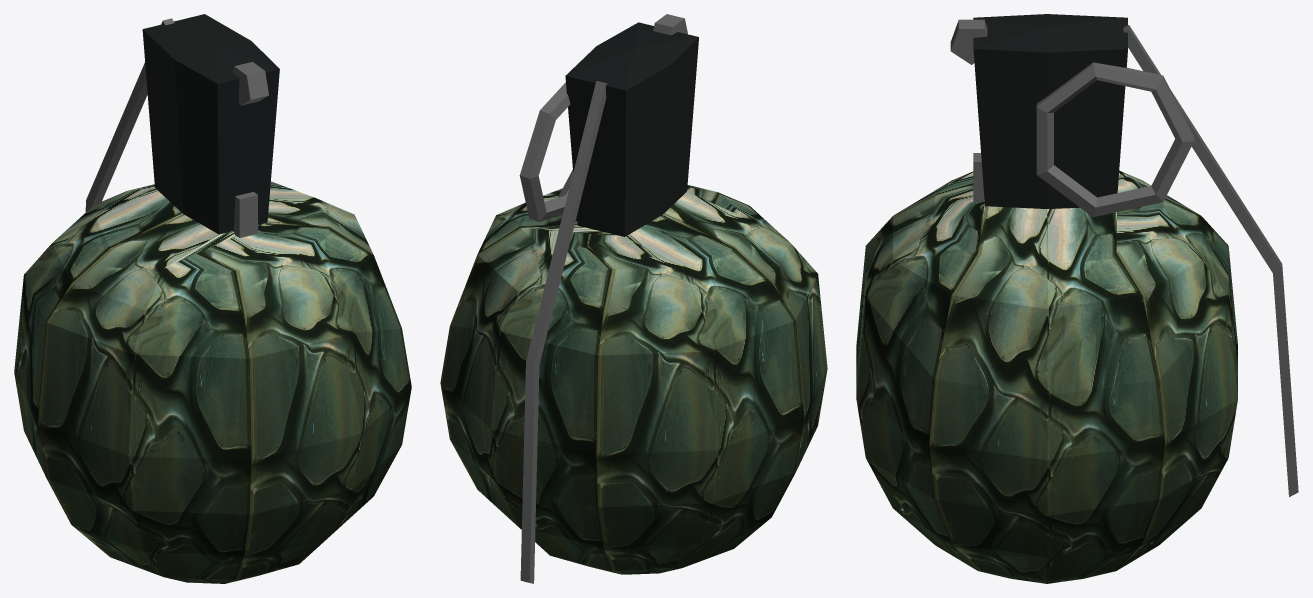
File: Grenade.fbx
3 renders of one model, left to right at view 1: azimuth 30°, elevation 25°; view 2: azimuth 150°, elevation 25°; view 3: azimuth 270°, elevation 25°, orthographic. The views are drawn at different scales.
Parts seen in each view (by area): view 1: pSphere2; view 2: pSphere2; view 3: pSphere2.
Part boxes in pixels (<box>): pSphere2: <box>14,14,411,583</box>; pSphere2: <box>440,14,827,583</box>; pSphere2: <box>856,14,1298,583</box>.
Bounding box in the file's own units: 1.89 × 2.72 × 2.01.
